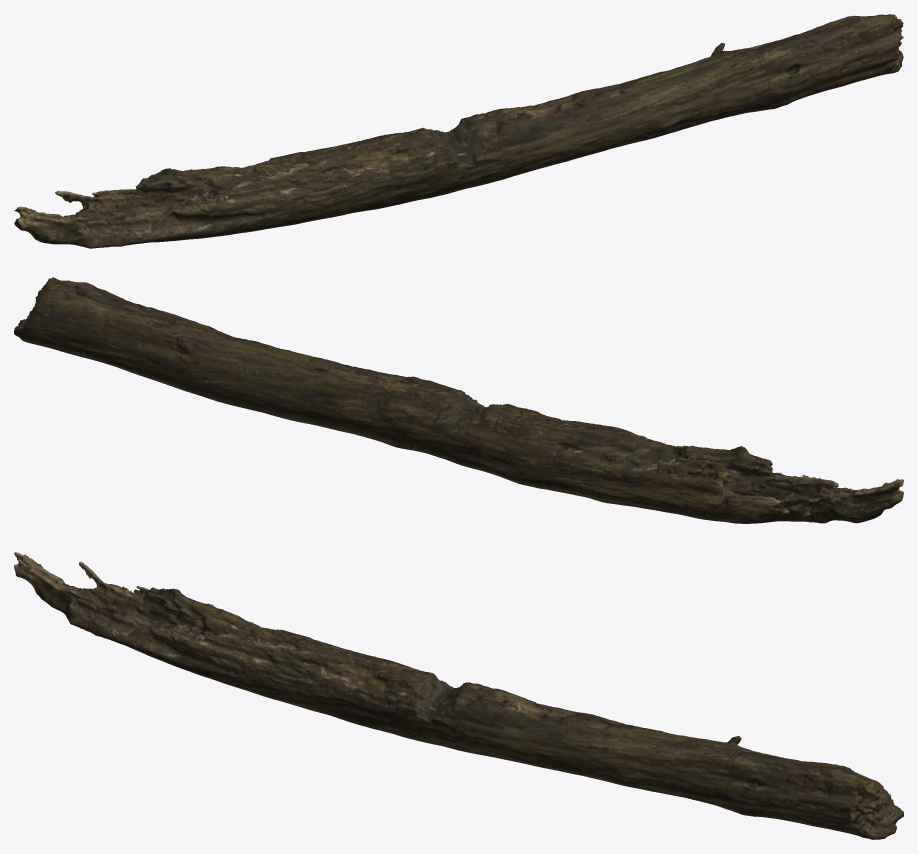
File: dead_tree_trunk.glb
The picture shows the model from 3 angles, top to bottom: view 1: azimuth 30°, elevation 25°; view 2: azimuth 150°, elevation 25°; view 3: azimuth 330°, elevation 25°; orthographic projection.
Parts seen in each view (by area): view 1: dead_tree_trunk; view 2: dead_tree_trunk; view 3: dead_tree_trunk.
Boxes of the visible parts, x1,y1,x2,y2 form: dead_tree_trunk: (14, 14, 903, 248); dead_tree_trunk: (14, 277, 903, 523); dead_tree_trunk: (14, 552, 903, 839).
Bounding box in the file's own units: 3.05 × 0.2905 × 0.2775.
1 material, 1 textured.
